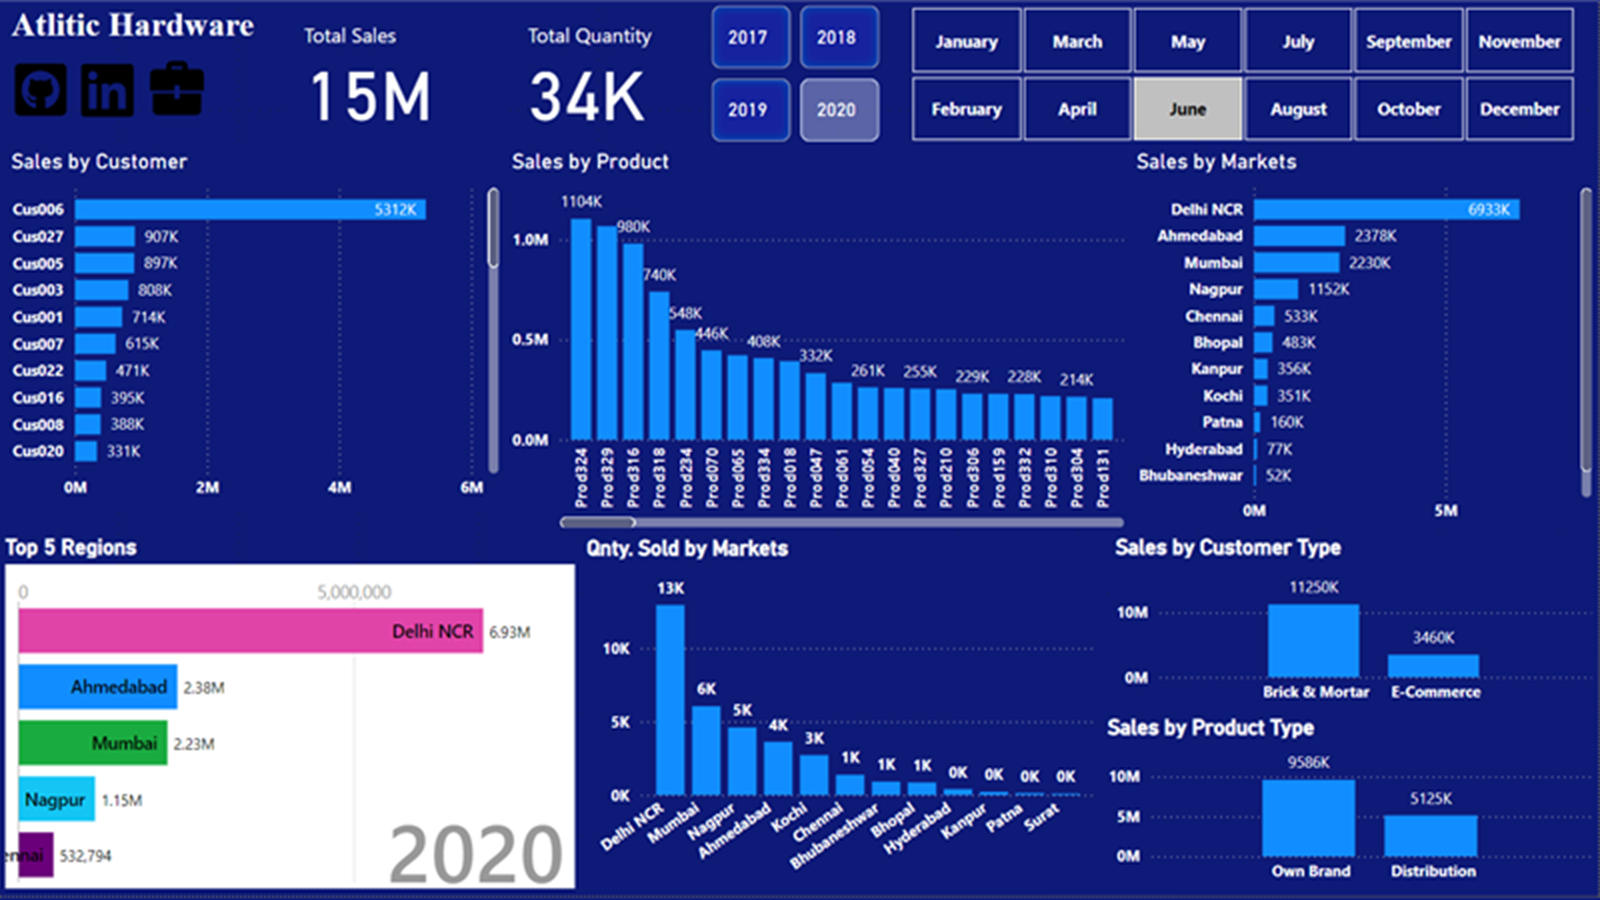

The page's visual inventory and layout, read from the dashboard file:
{"tool":"powerbi","page":{"name":"Page 1","canvas":[1280,720],"ordinal":0},"visuals":[{"type":"cardVisual","fields":{"Data":["Sum(Table1.sales_amount)"]},"box":[226.8,7.8,178.5,119],"z":0},{"type":"cardVisual","title":"Total Sales","fields":{"Data":["Sum(Table1.sales_qty)"]},"box":[406.3,7.8,159.6,119],"z":1000},{"type":"advancedSlicerVisual","fields":{"Values":["Table1.order_date.Variation.Date Hierarchy.Year"]},"box":[565.8,7.8,144.9,119],"z":2000},{"type":"barChart","title":"Sales by Customer","fields":{"Category":["Table1.customer_code"],"Y":["Sum(Table1.sales_amount)"]},"box":[5.2,126.8,400.2,287.2],"z":3000},{"type":"barChart","title":"Sales by Markets","fields":{"Category":["Table1.markets_name"],"Y":["Sum(Table1.sales_amount)"]},"box":[905.7,126.8,374.3,306.2],"z":4000},{"type":"columnChart","title":"Qnty. Sold by Markets","fields":{"Y":["Sum(Table1.sales_qty)"],"Category":["Table1.markets_name"]},"box":[465.6,433.5,416.6,286.5],"z":5000},{"type":"slicer","fields":{"Values":["Table1.order_date.Variation.Date Hierarchy.Month"]},"box":[710.7,7.8,569.3,119],"z":6000},{"type":"columnChart","title":"Sales by Product","fields":{"Category":["Table1.product_code"],"Y":["Sum(Table1.sales_amount)"]},"box":[405.6,126.4,499.9,306.4],"z":7000},{"type":"columnChart","title":"Sales by Product Type","fields":{"Category":["Table1.product_type"],"Y":["Sum(Table1.sales_amount)"]},"box":[882.3,576.3,398,142.8],"z":8000},{"type":"columnChart","title":"Sales by Customer Type","fields":{"Category":["Table1.customer_type"],"Y":["Sum(Table1.sales_amount)"]},"box":[889,432.7,391.3,143.7],"z":9000},{"type":"textbox","box":[4.8,8,221.6,46.4],"z":10000},{"type":"wishyoulizationbarchartrace","title":"Top 5 Regions","fields":{"name":["Table1.markets_name"],"value":["Sum(Table1.sales_amount)"],"year":["Table1.order_date.Variation.Date Hierarchy.Year"]},"box":[0,432.7,465.6,286.5],"z":11000},{"type":"image","box":[5.1,51.5,56.6,56.6],"z":12000},{"type":"image","box":[56.6,54.1,59.2,52.4],"z":13000},{"type":"image","box":[115.8,52.4,53.2,53.2],"z":14000}]}

Visuals, with their boxes in screenshot pixels (x1, y1, x2, y2), scaled from the page's 1280x720 canvas onto the 1600x900 screenshot:
cardVisual - Sum(Table1.sales_amount): box=[284, 10, 507, 158]
"Total Sales" cardVisual: box=[508, 10, 707, 158]
advancedSlicerVisual - Table1.order_date.Variation.Date Hierarchy.Year: box=[707, 10, 888, 158]
"Sales by Customer" barChart: box=[6, 158, 507, 518]
"Sales by Markets" barChart: box=[1132, 158, 1599, 541]
"Qnty. Sold by Markets" columnChart: box=[582, 542, 1103, 899]
slicer - Table1.order_date.Variation.Date Hierarchy.Month: box=[888, 10, 1599, 158]
"Sales by Product" columnChart: box=[507, 158, 1132, 541]
"Sales by Product Type" columnChart: box=[1103, 720, 1599, 899]
"Sales by Customer Type" columnChart: box=[1111, 541, 1599, 720]
textbox: box=[6, 10, 283, 68]
"Top 5 Regions" wishyoulizationbarchartrace: box=[0, 541, 582, 899]
image: box=[6, 64, 77, 135]
image: box=[71, 68, 145, 133]
image: box=[145, 66, 211, 132]
